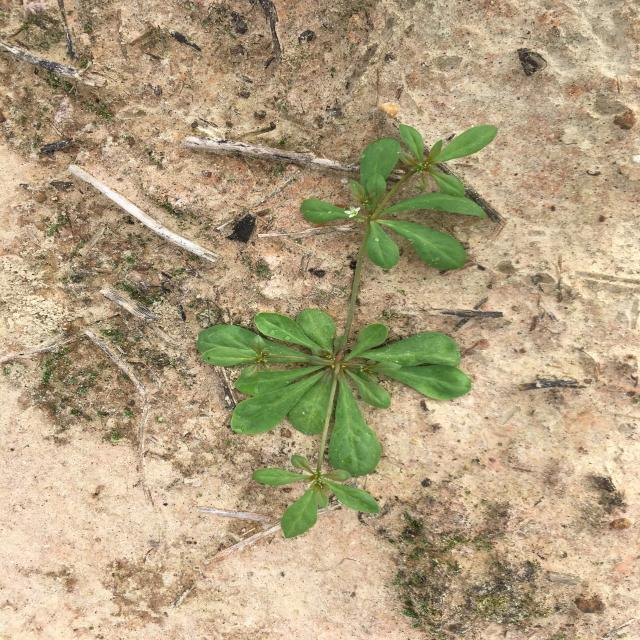Carpetweed: (194, 124, 498, 539)
